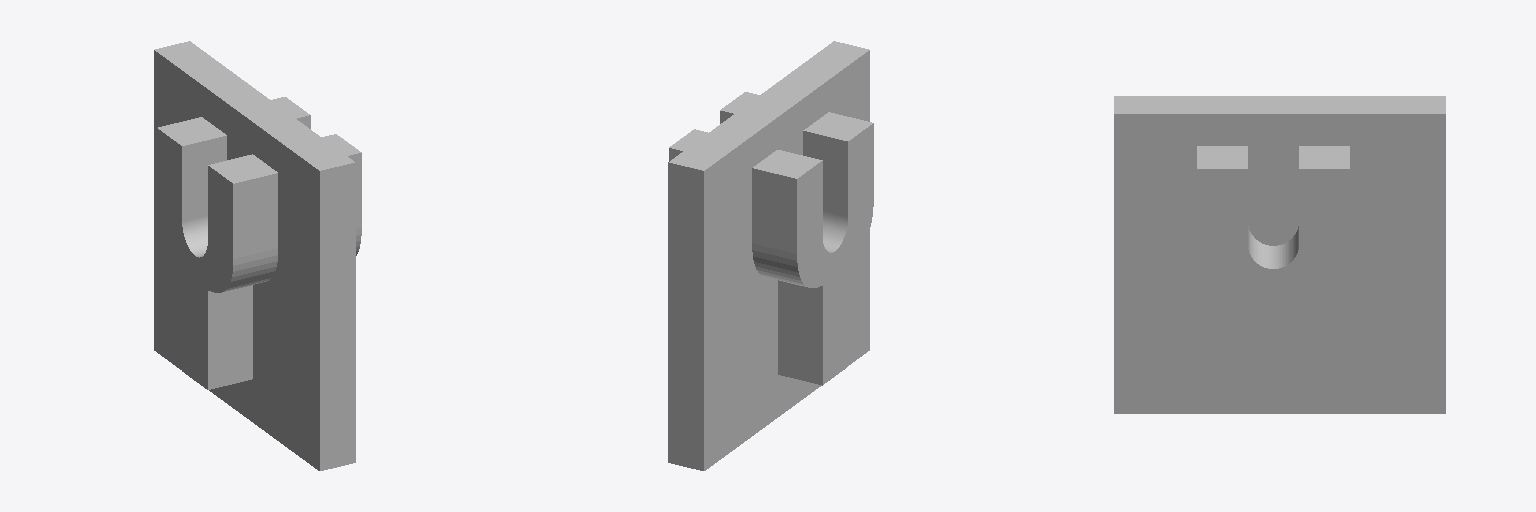
The model's file is letter_Y.obj.
3 renders of one model, left to right at view 1: azimuth 30°, elevation 25°; view 2: azimuth 150°, elevation 25°; view 3: azimuth 270°, elevation 25°, orthographic.
Visible parts, largest first — view 1: window, Text; view 2: window, Text; view 3: window, Text.
Boxes of the visible parts, box(x1,y1,x2,y2) form: window: box(154, 41, 355, 470); Text: box(157, 97, 361, 389); window: box(668, 41, 869, 470); Text: box(669, 92, 873, 385); window: box(1114, 96, 1445, 413); Text: box(1197, 146, 1349, 393).
Size of the model in its own units: 0.894 by 2 by 2.